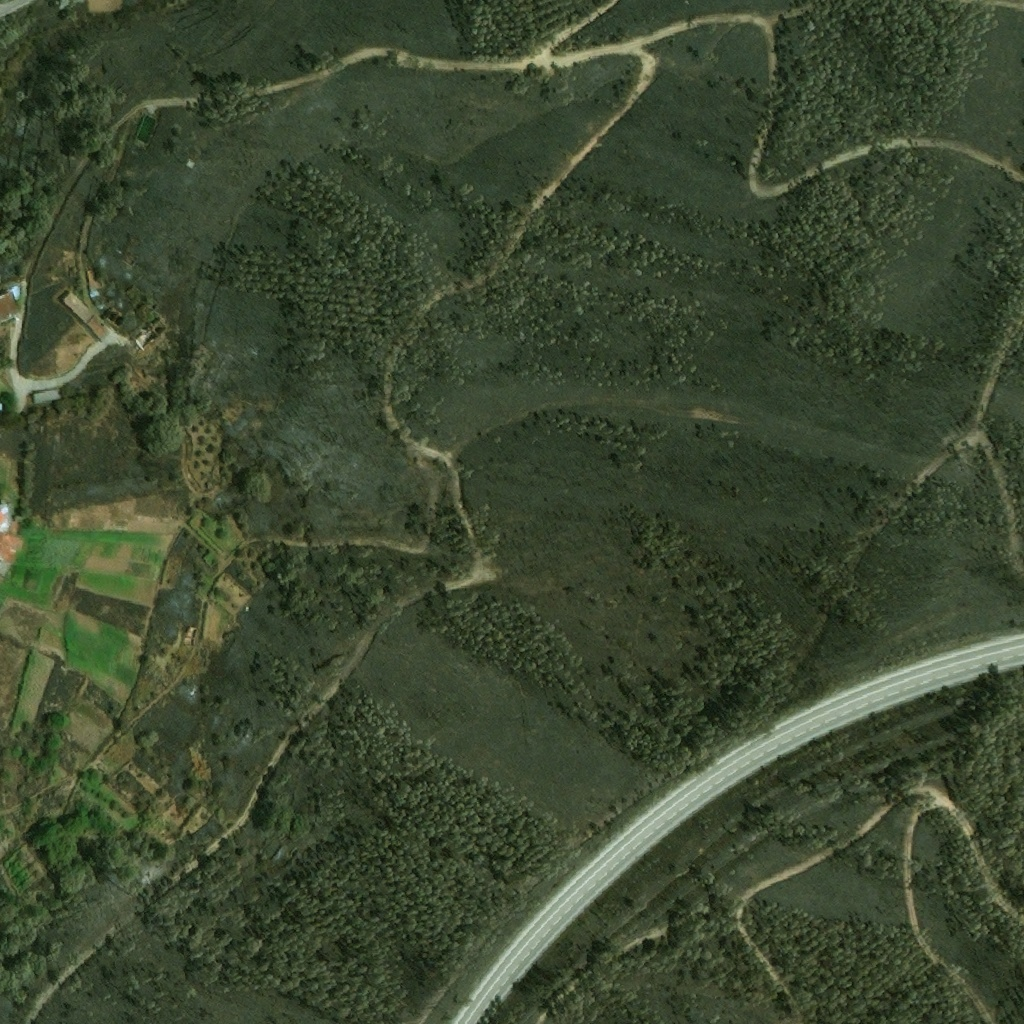0 no-damage: (59, 290, 108, 342), (0, 522, 23, 566), (0, 285, 20, 323), (32, 387, 65, 408), (0, 503, 9, 534)
1 minor-damage: (87, 271, 101, 298)
3 destroyed: (132, 317, 168, 352), (104, 309, 123, 331)
